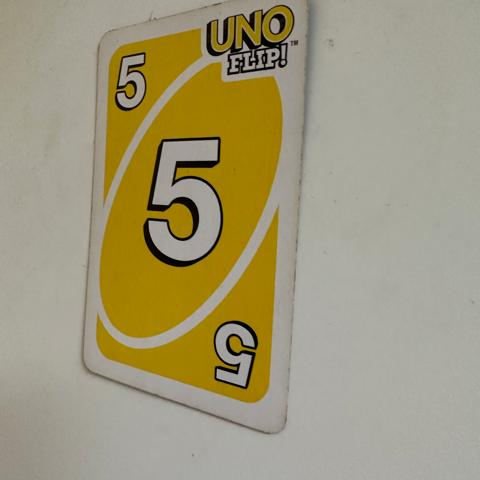lyellow-5: (106, 41, 162, 125)
